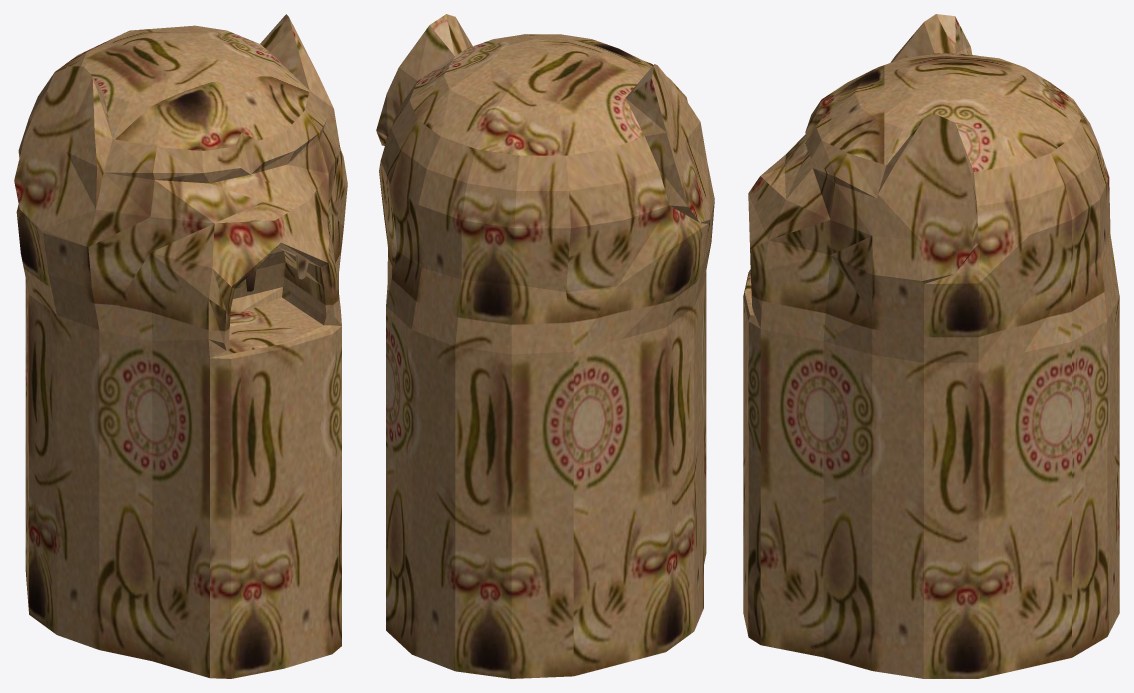
The model's file is actor.obj.
3 renders of one model, left to right at view 1: azimuth 30°, elevation 25°; view 2: azimuth 150°, elevation 25°; view 3: azimuth 270°, elevation 25°, orthographic. The views are drawn at different scales.
Parts seen in each view (by area): view 1: actor; view 2: actor; view 3: actor.
Boxes of the visible parts, box(x1,y1,x2,y2) form: actor: box(14, 14, 347, 678); actor: box(376, 14, 714, 678); actor: box(743, 14, 1119, 678).
Bounding box in the file's own units: 36.43 × 61.69 × 38.31.
1 material, 1 textured.
